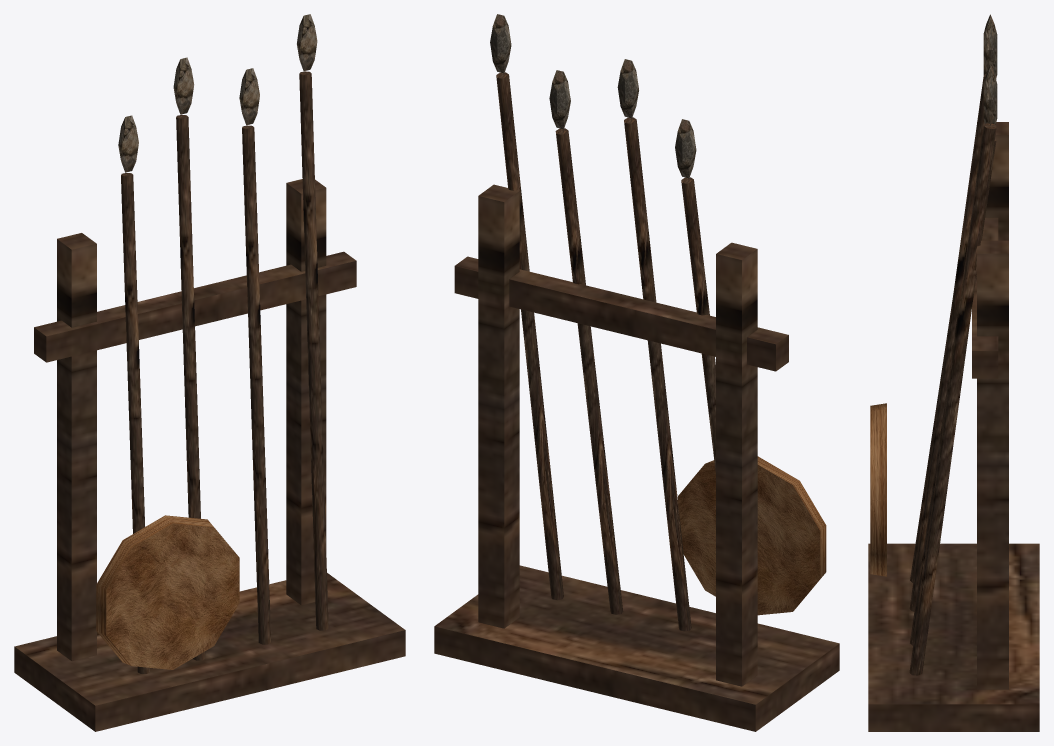
File: periodGuard.glb
3 views of the same model, side by side, from view 1: azimuth 30°, elevation 25°; view 2: azimuth 150°, elevation 25°; view 3: azimuth 270°, elevation 25° (orthographic). The views are drawn at different scales.
Visible parts, largest first — view 1: part_0, part_2, part_1; view 2: part_0, part_2, part_1; view 3: part_0, part_2, part_1.
Part boxes in pixels (<box>): part_0: <box>14,71,405,731</box>; part_2: <box>96,515,239,669</box>; part_1: <box>118,14,317,172</box>; part_0: <box>434,72,839,731</box>; part_2: <box>678,456,826,615</box>; part_1: <box>490,14,696,178</box>; part_0: <box>868,74,1039,731</box>; part_2: <box>870,403,886,576</box>; part_1: <box>983,14,997,125</box>.
Size of the model in its own units: 0.73 by 1.38 by 0.33.
3 materials, 3 textured.
